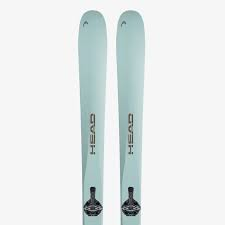skis: (75, 10, 146, 225)
